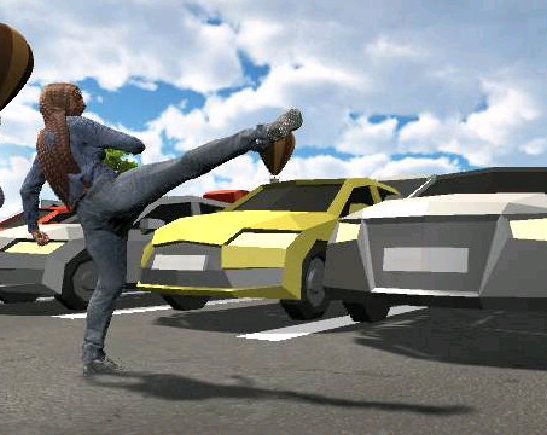turn_right: (15, 81, 305, 379)
